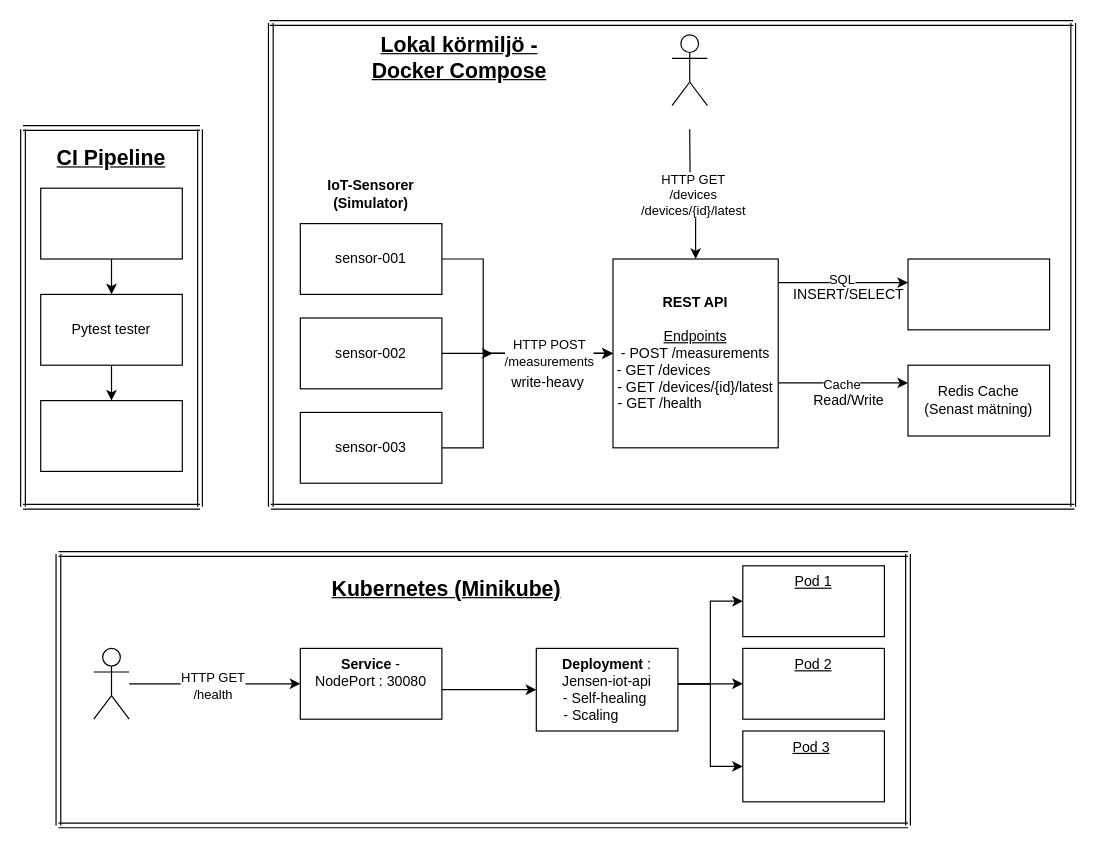
The diagram is 1096 pixels wide and 848 high, and some of its shapes have lost their labels. The centre of each missing label's shape, as x and y in pixels:
"Användare" belongs at [689,70].
"Användare / Testklient" belongs at [111,683].
"Docker image build" belongs at [111,435].
"GitHub push / PR" belongs at [111,223].
"PostgreSQL (Persistent historik)" belongs at [978,294].
